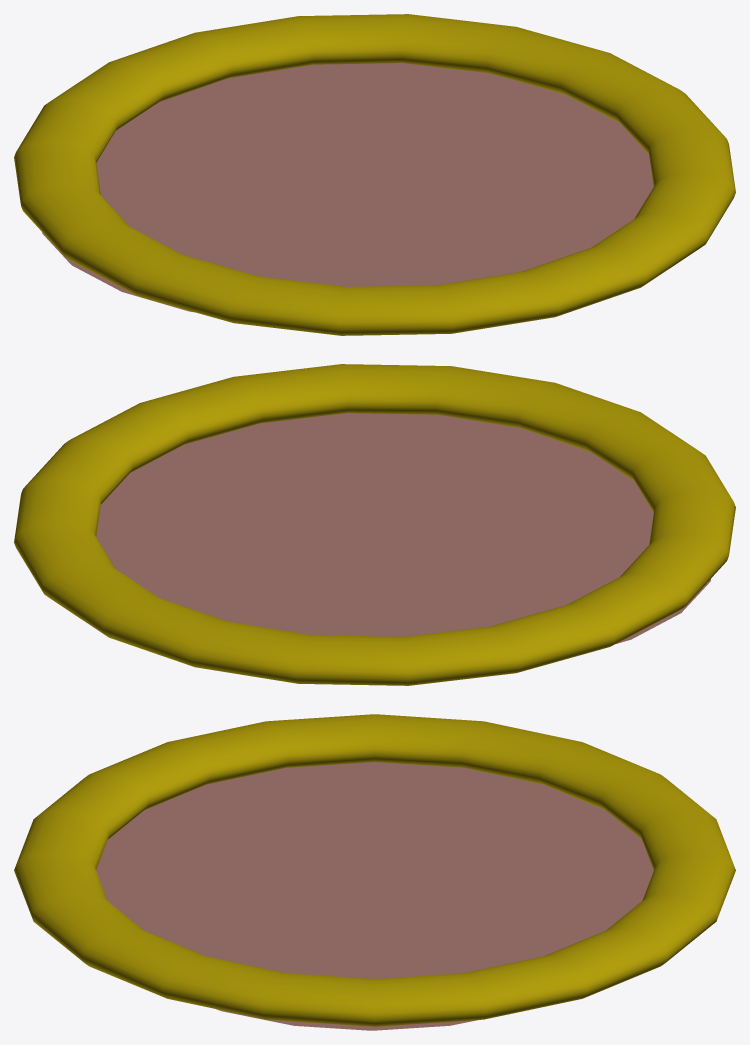
File: Circular Frame_2.fbx
3 renders of one model, top to bottom at view 1: azimuth 30°, elevation 25°; view 2: azimuth 150°, elevation 25°; view 3: azimuth 270°, elevation 25°, orthographic. The views are drawn at different scales.
Parts seen in each view (by area): view 1: Circular_Frame_2_pTorus1; view 2: Circular_Frame_2_pTorus1; view 3: Circular_Frame_2_pTorus1.
Boxes of the visible parts, x1=… form: Circular_Frame_2_pTorus1: x1=14, y1=14, x2=735, y2=335; Circular_Frame_2_pTorus1: x1=14, y1=364, x2=735, y2=685; Circular_Frame_2_pTorus1: x1=14, y1=714, x2=735, y2=1030.
Bounding box in the file's own units: 8.72 × 0.4683 × 8.9.
